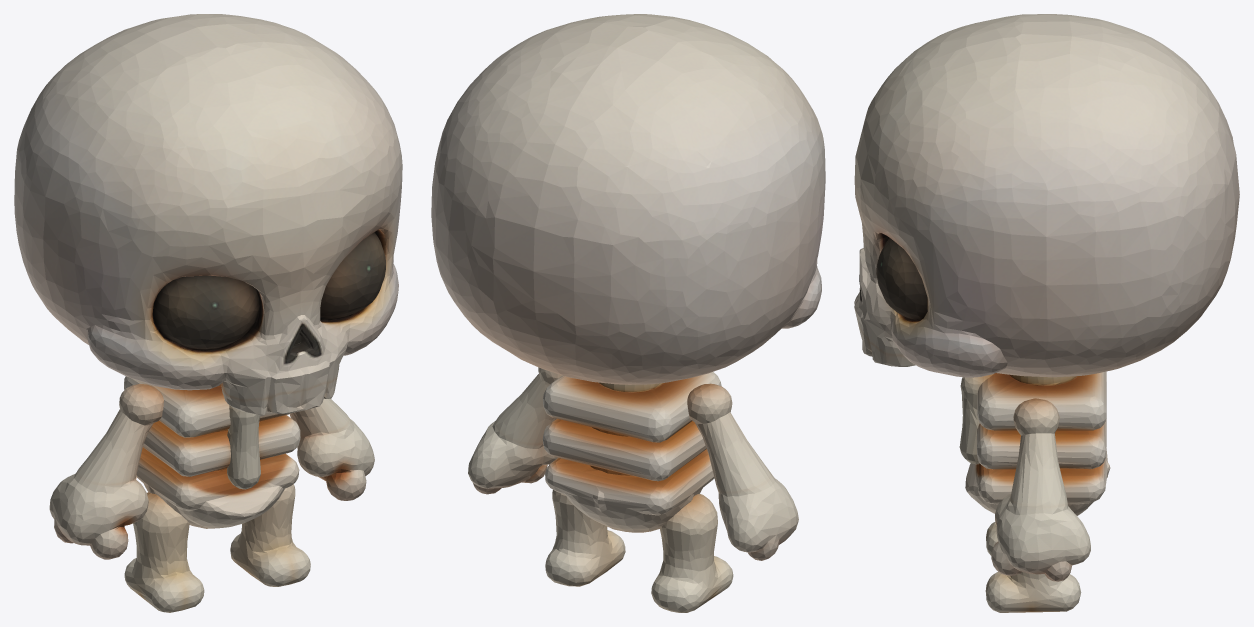
Rendered from skeleton.glb.
3 renders of one model, left to right at view 1: azimuth 30°, elevation 25°; view 2: azimuth 150°, elevation 25°; view 3: azimuth 270°, elevation 25°, orthographic.
Parts seen in each view (by area): view 1: Skeleton_head, Skeleton_body, Skeleton_rear left leg, Skeleton_front left leg, Skeleton_rear right leg, Skeleton_front right leg, Skeleton_tail; view 2: Skeleton_head, Skeleton_body, Skeleton_rear left leg, Skeleton_front left leg, Skeleton_rear right leg, Skeleton_front right leg; view 3: Skeleton_head, Skeleton_body, Skeleton_rear right leg, Skeleton_front right leg, Skeleton_tail.
Boxes of the visible parts, x1=… form: Skeleton_head: x1=14, y1=14, x2=402, y2=415; Skeleton_body: x1=124, y1=376, x2=300, y2=528; Skeleton_rear left leg: x1=49, y1=383, x2=163, y2=559; Skeleton_front left leg: x1=124, y1=492, x2=204, y2=612; Skeleton_rear right leg: x1=289, y1=398, x2=374, y2=500; Skeleton_front right leg: x1=230, y1=484, x2=310, y2=586; Skeleton_tail: x1=227, y1=405, x2=260, y2=489; Skeleton_head: x1=431, y1=14, x2=825, y2=384; Skeleton_body: x1=542, y1=372, x2=721, y2=532; Skeleton_rear left leg: x1=687, y1=383, x2=798, y2=560; Skeleton_front left leg: x1=651, y1=493, x2=733, y2=612; Skeleton_rear right leg: x1=468, y1=367, x2=561, y2=494; Skeleton_front right leg: x1=545, y1=490, x2=625, y2=586; Skeleton_head: x1=854, y1=14, x2=1239, y2=377; Skeleton_body: x1=965, y1=371, x2=1110, y2=515; Skeleton_rear right leg: x1=991, y1=398, x2=1090, y2=581; Skeleton_front right leg: x1=985, y1=571, x2=1081, y2=612; Skeleton_tail: x1=959, y1=374, x2=993, y2=464.
Bounding box in the file's own units: 4 × 6.23 × 4.
7 materials, 7 textured.
